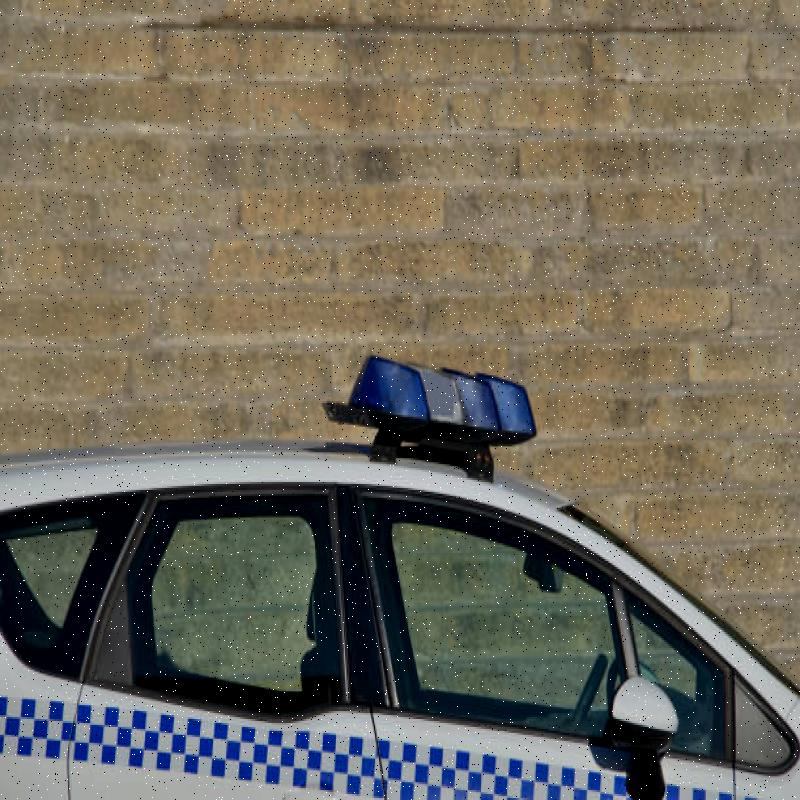AmbulanceSiren: (357, 354, 547, 467)
